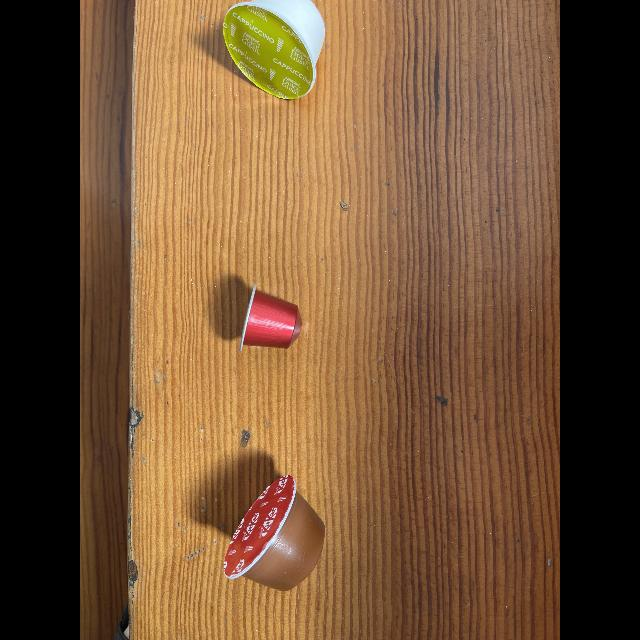intact_capsule: (218, 467, 332, 607), (214, 0, 334, 106), (230, 278, 312, 362)
